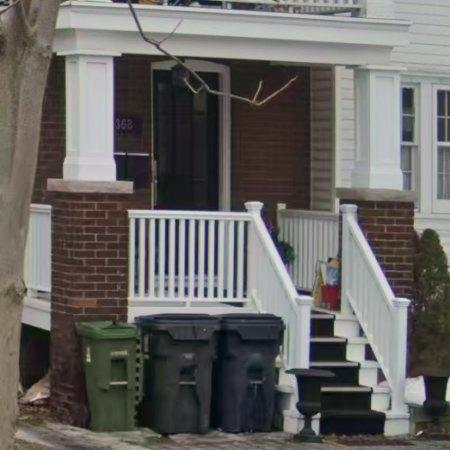stairs: (310, 310, 411, 436)
